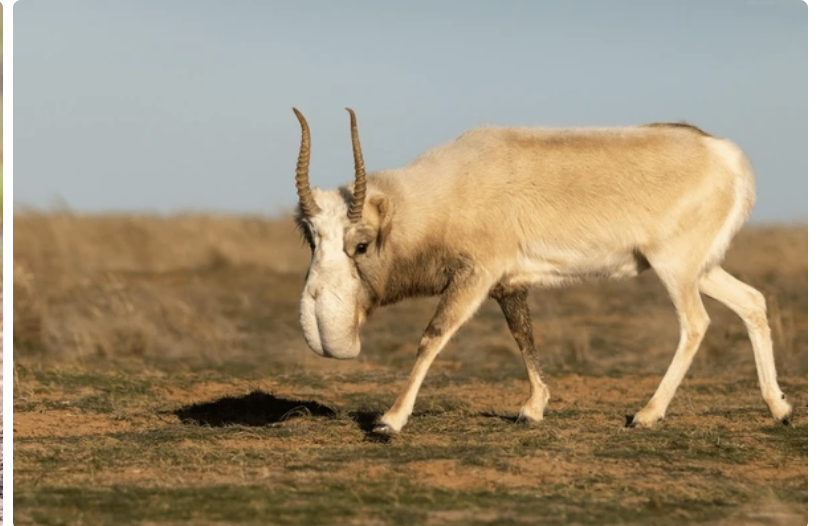saiga: (278, 104, 799, 445)
